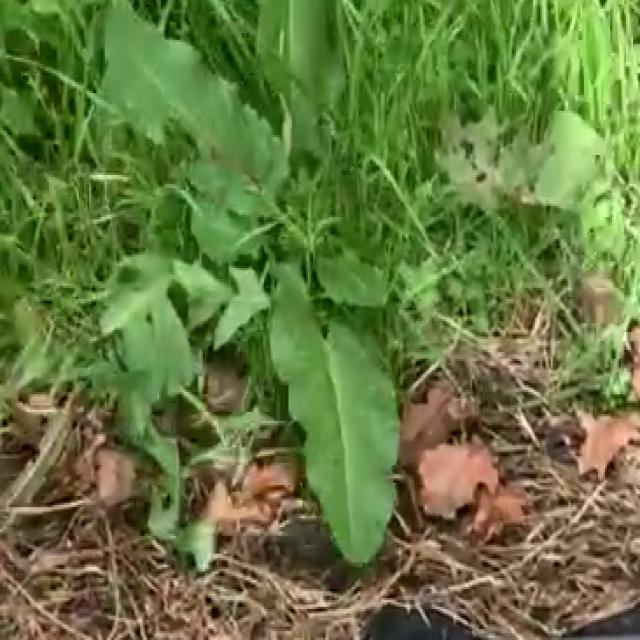organic waste: (46, 0, 506, 556)
